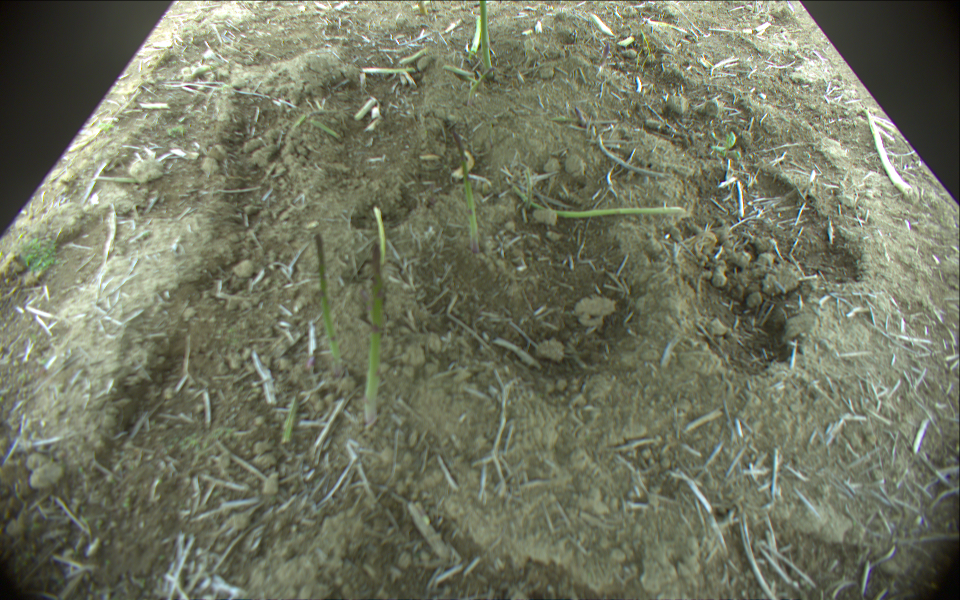aspa: (506, 179, 683, 214), (361, 206, 388, 427), (443, 117, 481, 256), (313, 229, 347, 363), (480, 1, 496, 79), (303, 113, 345, 139), (358, 63, 419, 77), (469, 13, 482, 59), (417, 1, 430, 16)
